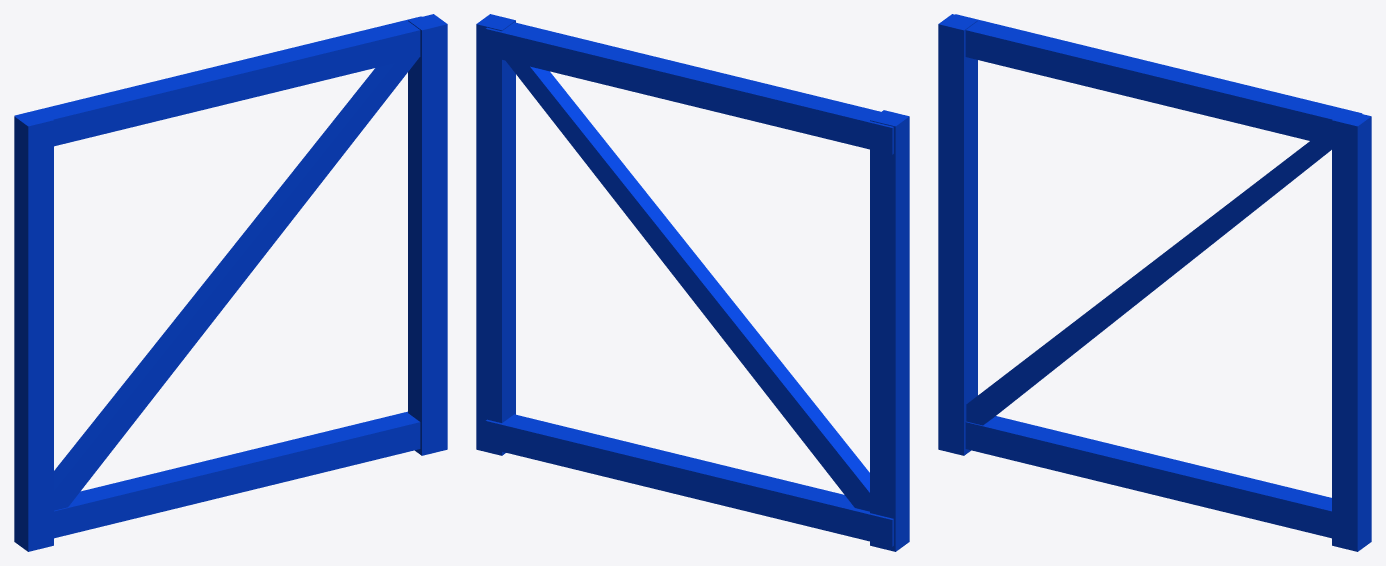
The model's file is Bastion_Wall_04A.fbx.
3 renders of one model, left to right at view 1: azimuth 30°, elevation 25°; view 2: azimuth 150°, elevation 25°; view 3: azimuth 330°, elevation 25°, orthographic.
Visible parts, largest first — view 1: Bastion_Wall_04A; view 2: Bastion_Wall_04A; view 3: Bastion_Wall_04A.
Boxes of the visible parts, x1=… form: Bastion_Wall_04A: x1=14, y1=14, x2=447, y2=551; Bastion_Wall_04A: x1=476, y1=14, x2=909, y2=551; Bastion_Wall_04A: x1=938, y1=14, x2=1371, y2=551.
Bounding box in the file's own units: 309 × 300 × 19.78.
